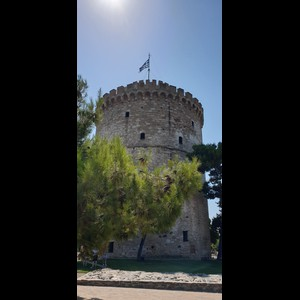White Tower: (87, 53, 214, 264)
